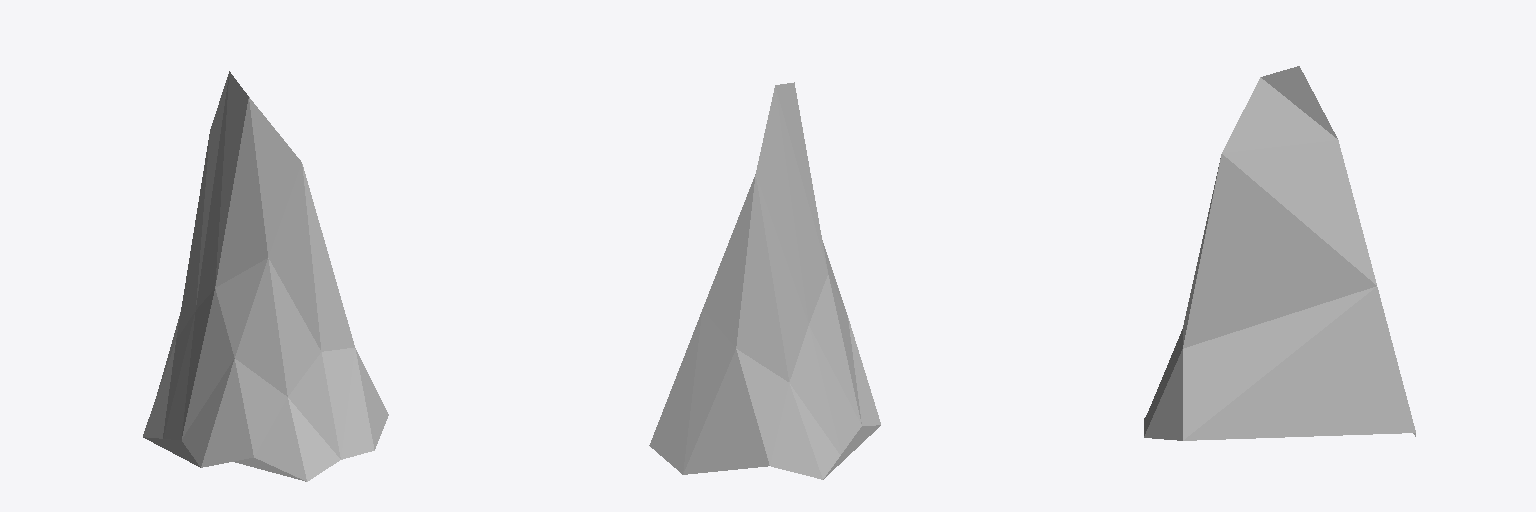
Rendered from tree_11.obj.
3 renders of one model, left to right at view 1: azimuth 30°, elevation 25°; view 2: azimuth 150°, elevation 25°; view 3: azimuth 270°, elevation 25°, orthographic.
Visible parts, largest first — view 1: tree_11.001; view 2: tree_11.001; view 3: tree_11.001.
Boxes of the visible parts, x1,y1,x2,y2 form: tree_11.001: [143, 71, 388, 481]; tree_11.001: [649, 82, 880, 479]; tree_11.001: [1144, 66, 1415, 440].
Bounding box in the file's own units: 5 × 10.32 × 7.